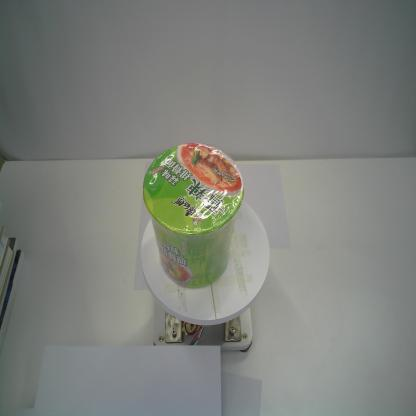Instant Noodles: (140, 139, 246, 294)
